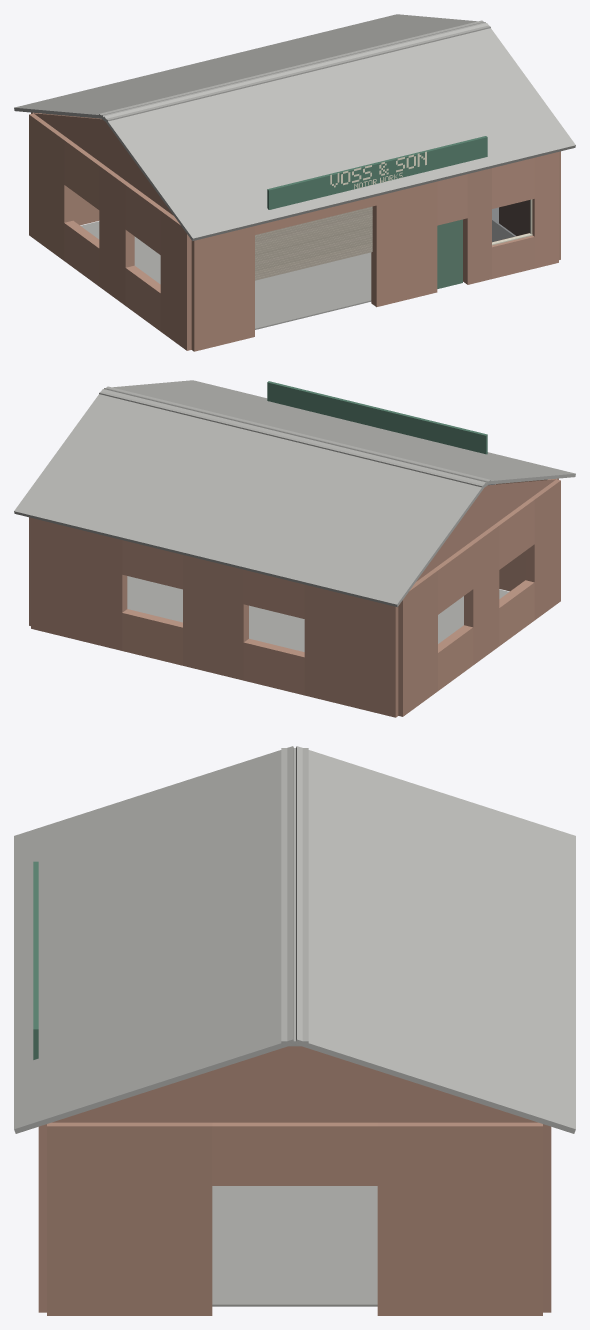
File: garage_shell_a.glb
3 views of the same model, one above another, from view 1: azimuth 30°, elevation 25°; view 2: azimuth 150°, elevation 25°; view 3: azimuth 270°, elevation 25° (orthographic). The views are drawn at different scales.
Parts seen in each view (by area): view 1: body, roller_door; view 2: body; view 3: body.
Boxes of the visible parts, box(x1,y1,x2,y2) form: body: box(14, 14, 575, 351); roller_door: box(255, 206, 372, 280); body: box(14, 380, 575, 717); body: box(14, 746, 575, 1315).
Size of what is drawn, in the model's own units: 12.6 by 5.61 by 10.2.
